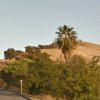Palm tree: (51, 17, 86, 73)
